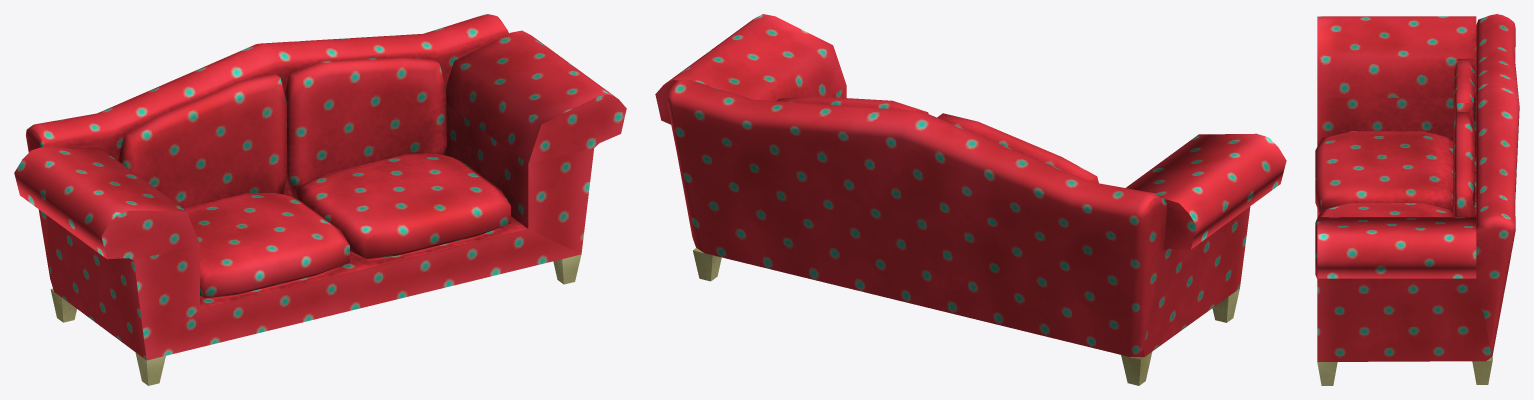
The model's file is Couch_rounded.fbx.
3 renders of one model, left to right at view 1: azimuth 30°, elevation 25°; view 2: azimuth 150°, elevation 25°; view 3: azimuth 270°, elevation 25°, orthographic. The views are drawn at different scales.
Visible parts, largest first — view 1: sofa_geo; view 2: sofa_geo; view 3: sofa_geo.
Boxes of the visible parts, box(x1,y1,x2,y2) form: sofa_geo: box(14, 14, 626, 385); sofa_geo: box(655, 14, 1286, 385); sofa_geo: box(1315, 14, 1519, 385).
Bounding box in the file's own units: 0.0357 × 0.0142 × 0.0132.
